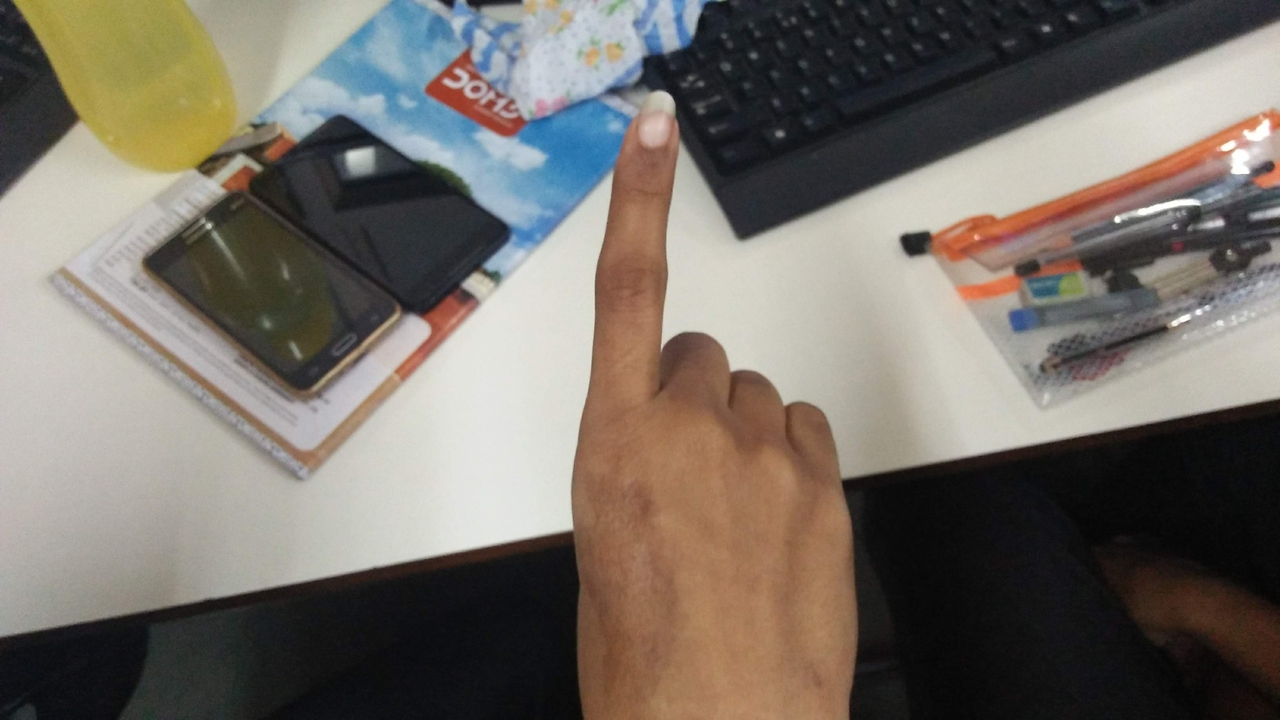fingertip: (616, 78, 682, 158)
